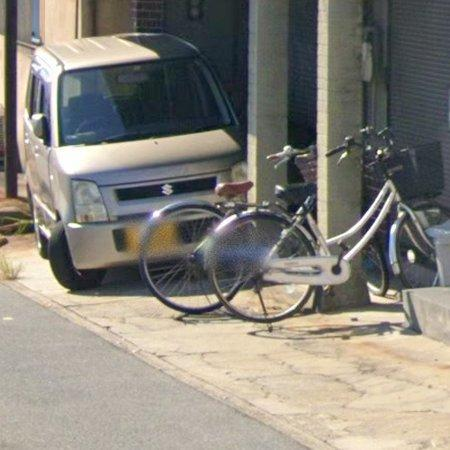bicycles: (198, 128, 438, 324), (141, 203, 224, 314)
